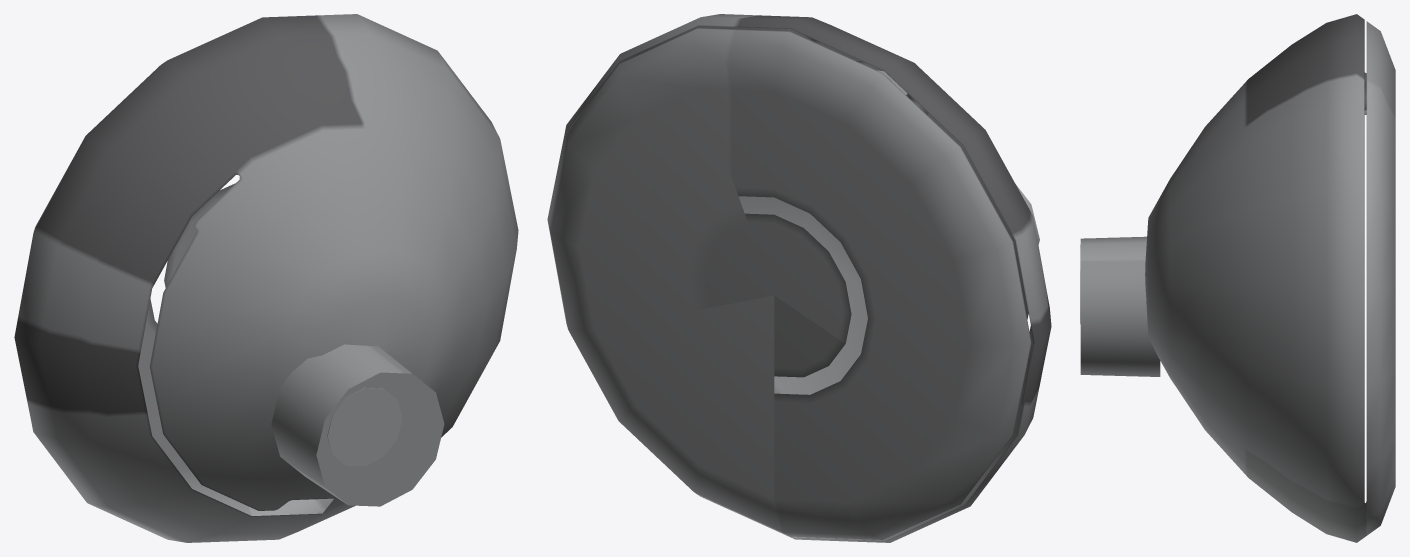
3 renders of one model, left to right at view 1: azimuth 30°, elevation 25°; view 2: azimuth 150°, elevation 25°; view 3: azimuth 270°, elevation 25°, orthographic. The views are drawn at different scales.
Bounding box in the file's own units: 0.952 × 0.952 × 0.5675.
